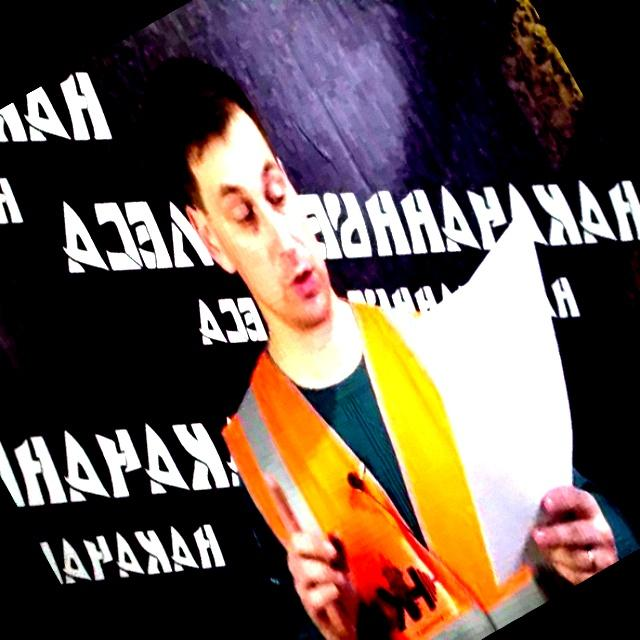Colete: (223, 305, 544, 639)
